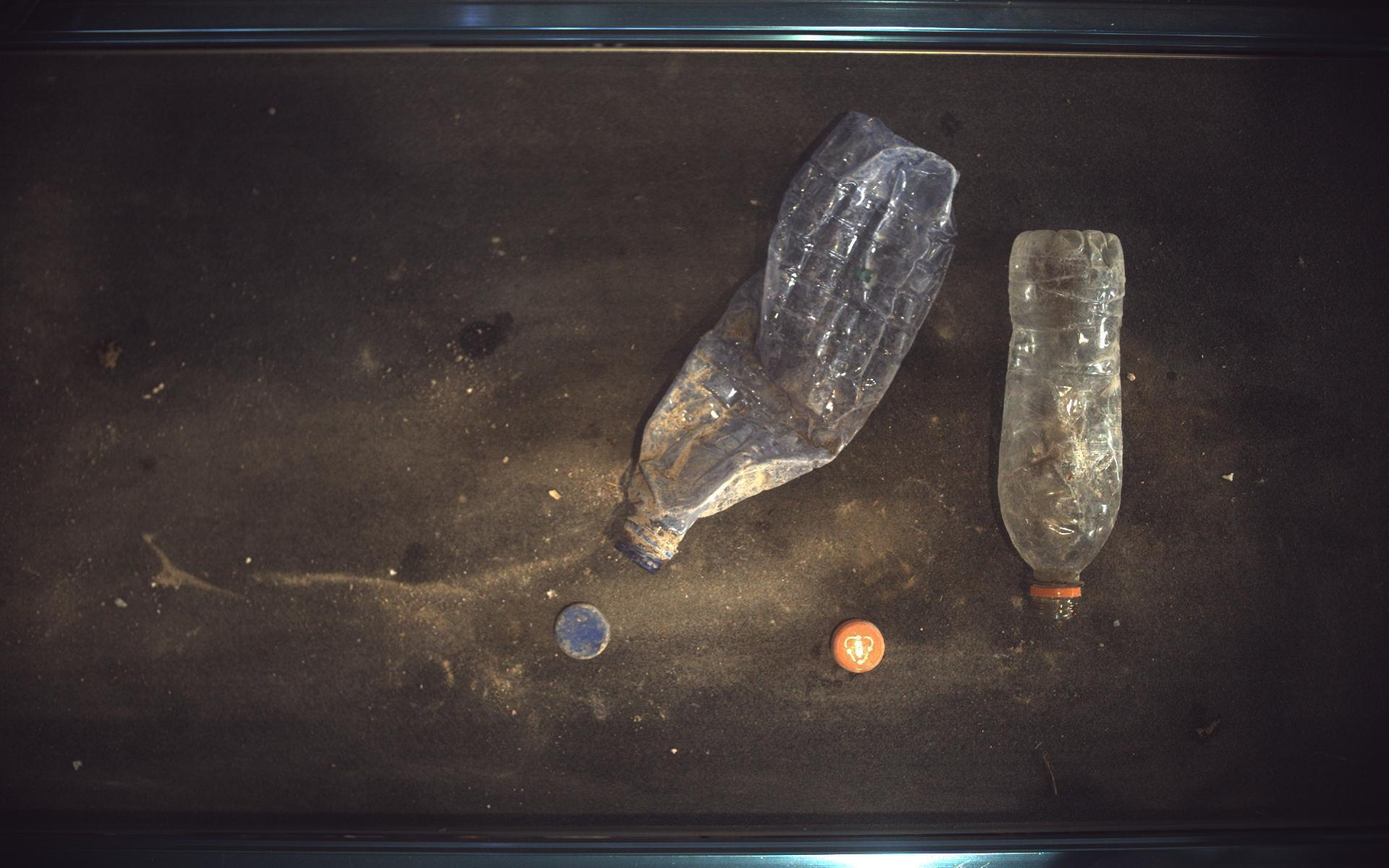general_w: (616, 111, 961, 573), (1001, 229, 1127, 619), (556, 604, 611, 661), (833, 620, 886, 674)
